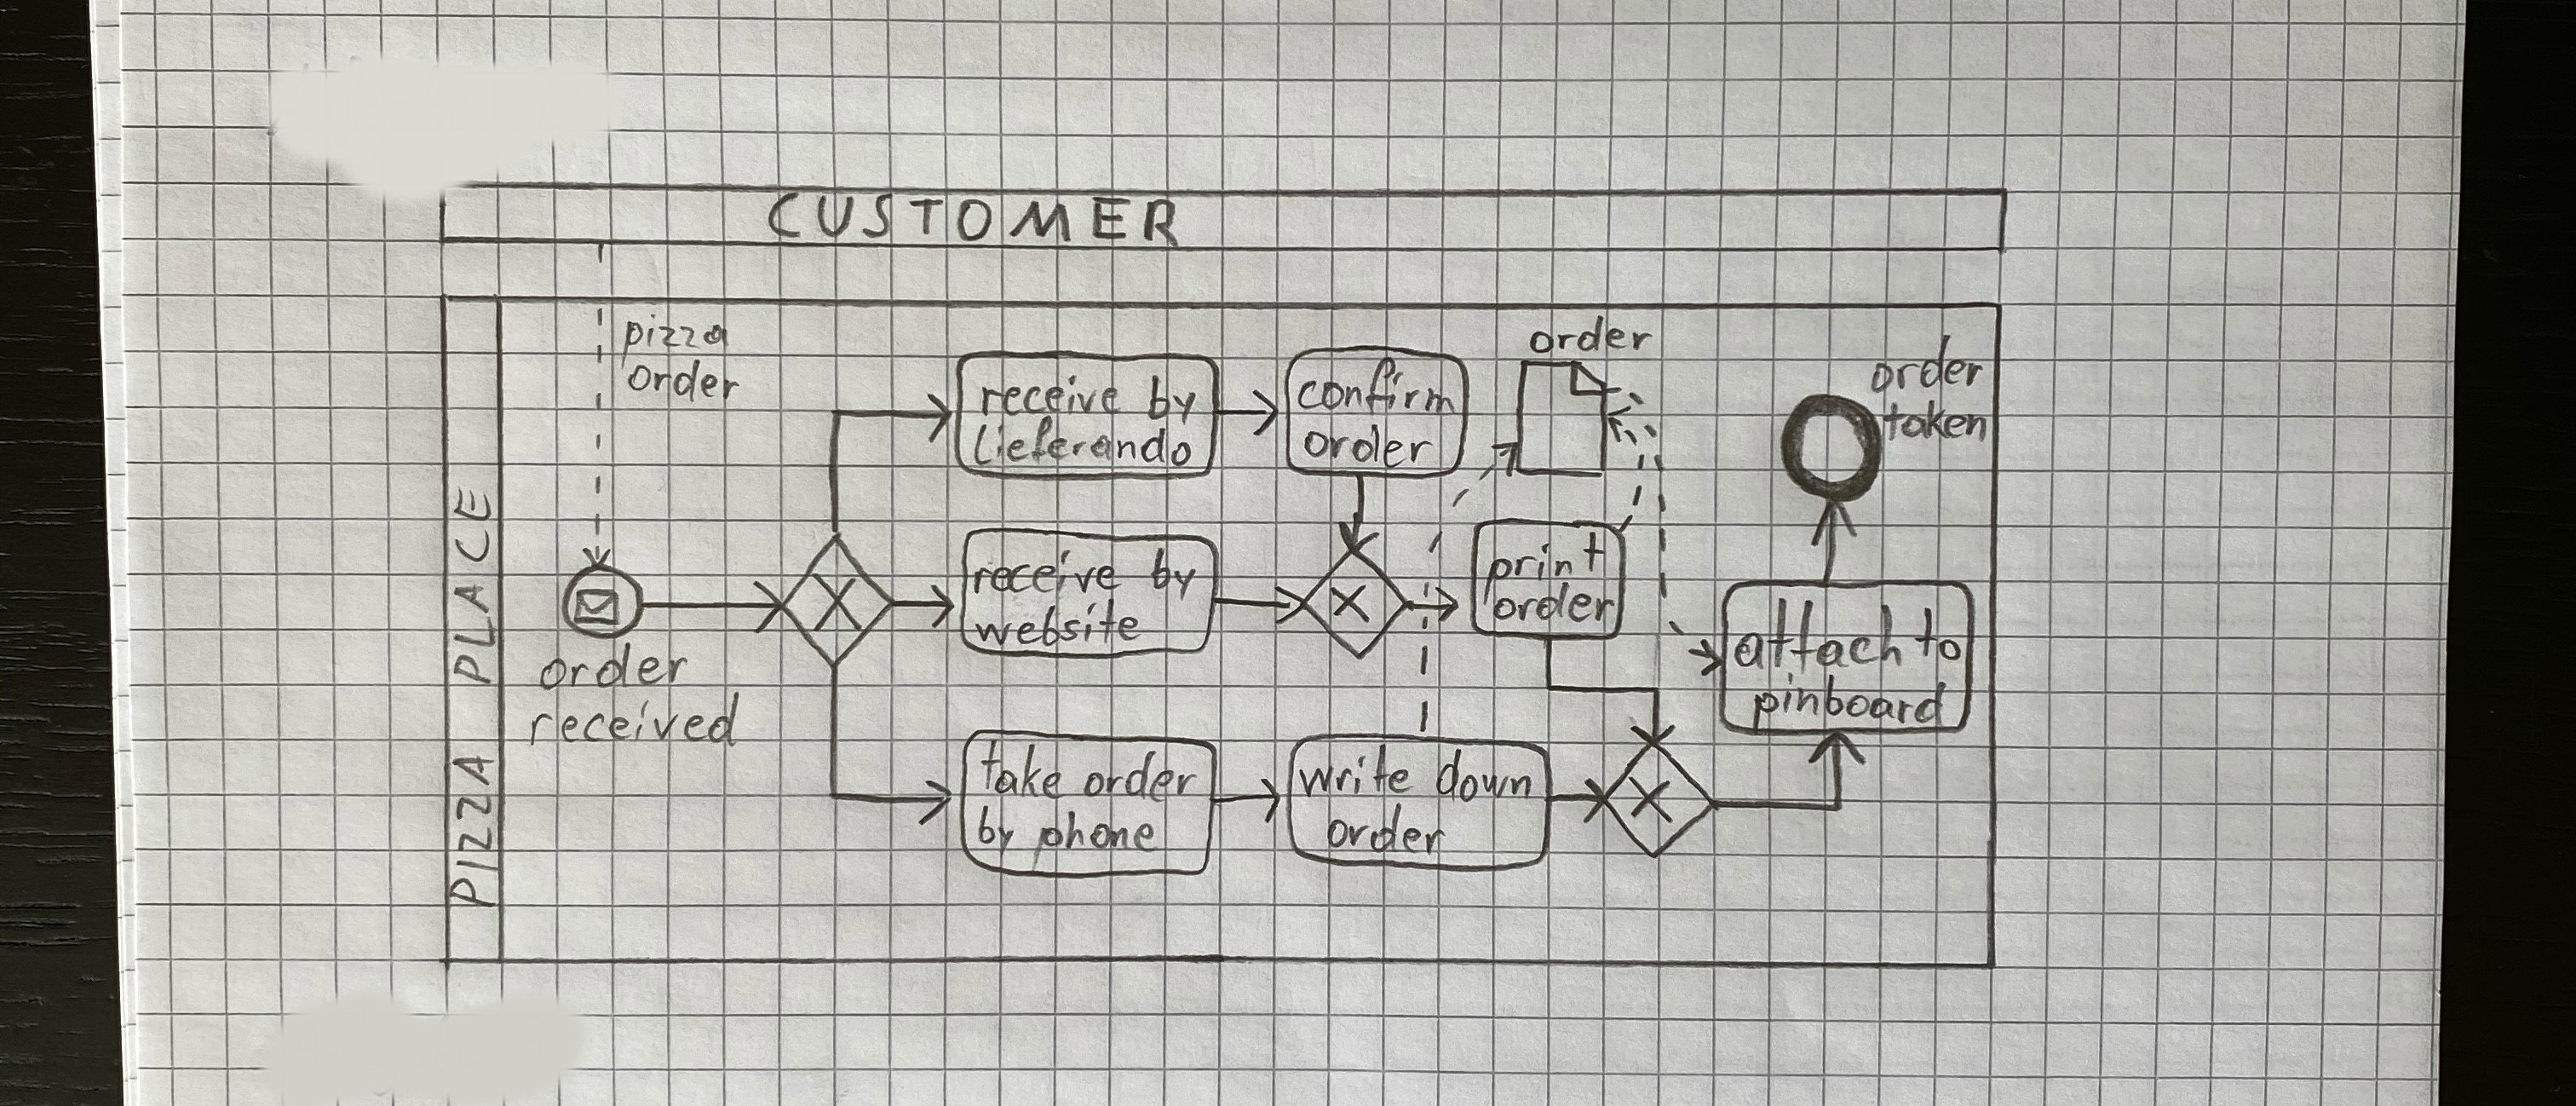CUSTOMER: (767, 189, 1180, 250)
Lieferando: (969, 416, 1196, 468)
PIZZA: (447, 751, 501, 910)
PLACE: (445, 486, 501, 684)
attach: (1733, 595, 1904, 672)
by: (1147, 547, 1203, 598), (1145, 375, 1201, 422), (974, 804, 1020, 855)
confirm: (1298, 352, 1460, 416)
down: (1431, 749, 1536, 802)
order: (1868, 332, 1988, 398), (539, 639, 692, 690), (1303, 419, 1437, 468), (1083, 748, 1203, 800), (1326, 804, 1447, 855), (1490, 578, 1620, 621), (1528, 314, 1658, 357), (628, 358, 743, 403)
phone: (1027, 809, 1155, 871)
pinboard: (1750, 674, 1948, 731)
pizza: (616, 312, 733, 366)
print: (1482, 531, 1607, 603)
receive: (971, 549, 1124, 598), (977, 375, 1125, 417)
received: (526, 690, 741, 753)
take: (976, 740, 1065, 800)
taken: (1881, 398, 1991, 442)
to: (1914, 605, 1966, 662)
website: (974, 595, 1143, 644)
write: (1296, 744, 1414, 802)
